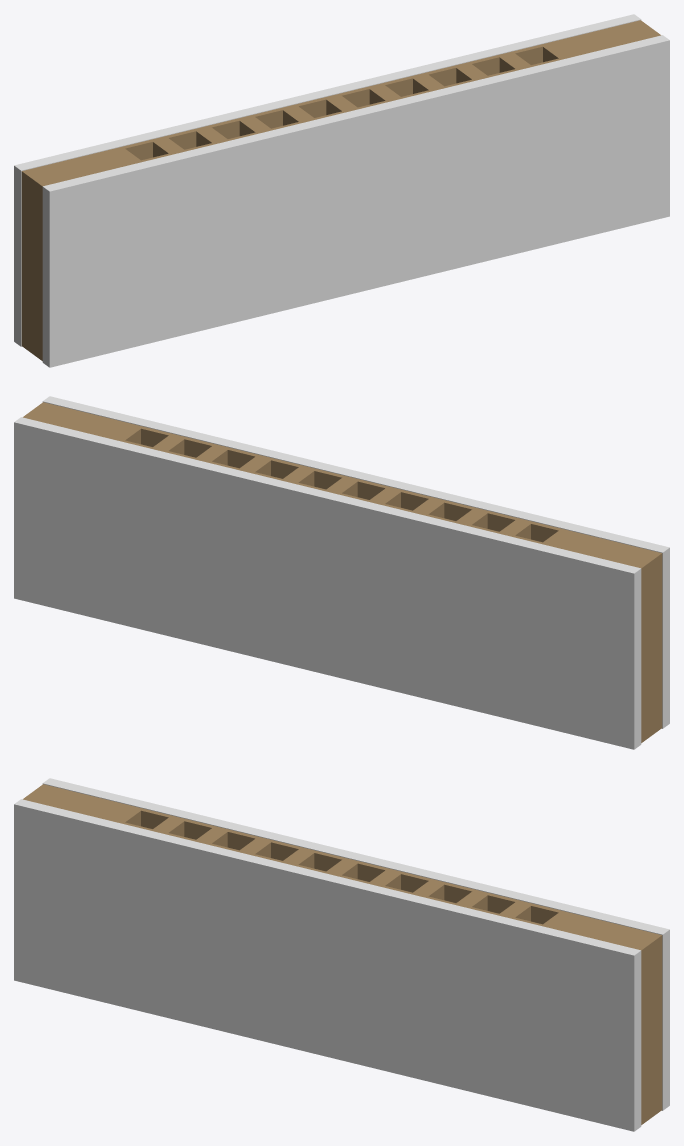
The model's file is harmonica.glb.
3 renders of one model, top to bottom at view 1: azimuth 30°, elevation 25°; view 2: azimuth 150°, elevation 25°; view 3: azimuth 330°, elevation 25°, orthographic.
Parts seen in each view (by area): view 1: world, tmpfctxgrtk.stl; view 2: world, tmpfctxgrtk.stl; view 3: world, tmpfctxgrtk.stl.
Part boxes in pixels (x1,y1,x2,y2): world: (14,14,669,367); tmpfctxgrtk.stl: (21,20,660,360); world: (14,396,669,749); tmpfctxgrtk.stl: (23,402,662,742); world: (14,778,669,1131); tmpfctxgrtk.stl: (23,784,662,1124).
Size of the model in its own units: 100 by 27.2 by 10.
